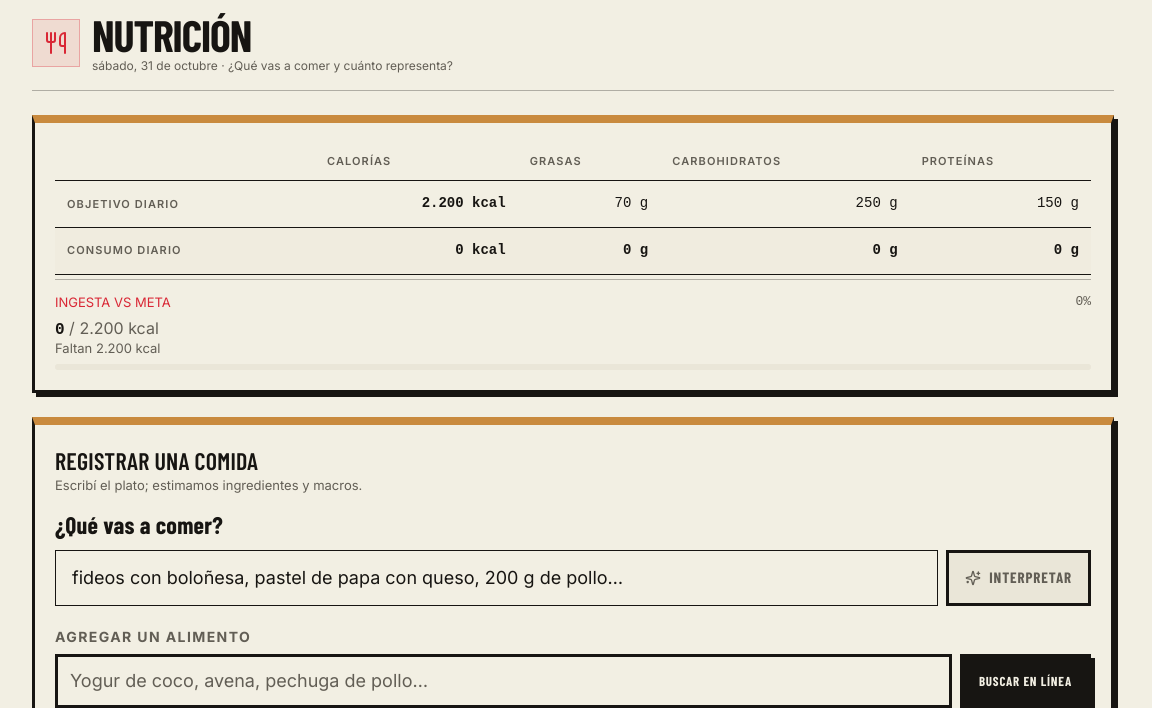
Nutrición — flujo de comidas sin proveedores externos › eliminar una comida la saca de la lista, del círculo y de Dexie
Type "yogur con banana" into the field labelled "Qué vas a comer".
click(497, 578); type("yogur con banana")  # box [55, 550, 938, 606]
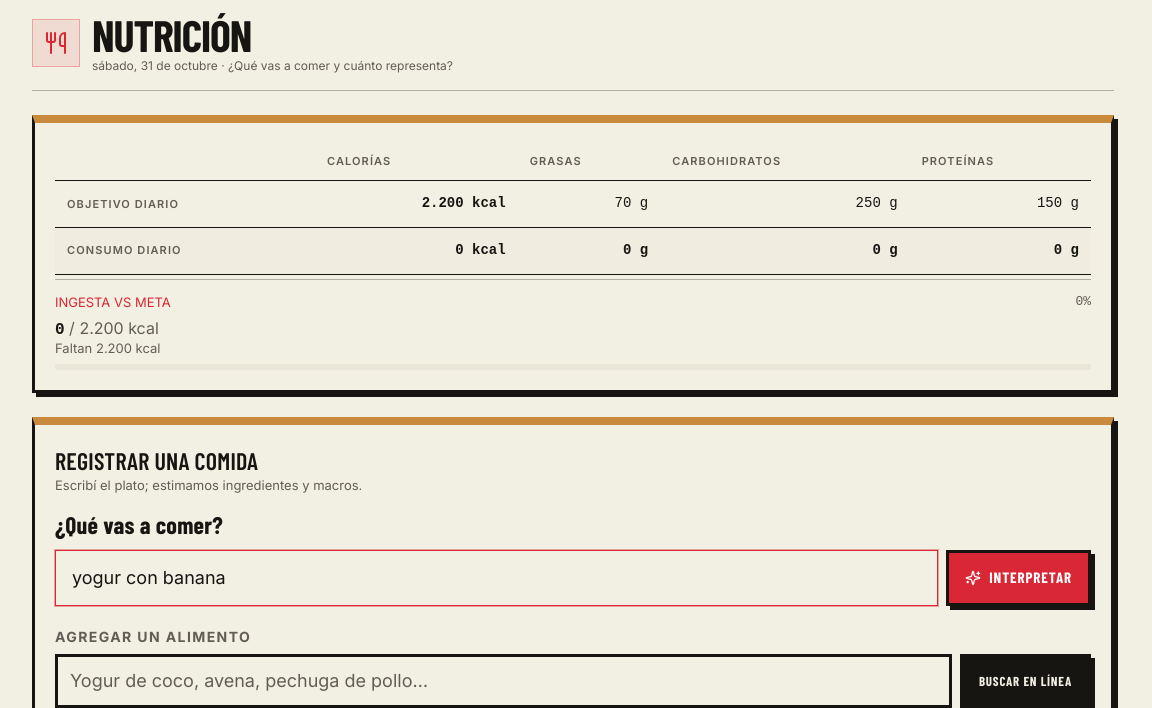
Click the button "Interpretar".
click(1019, 578)  # box [946, 550, 1091, 606]
(page scrolled)
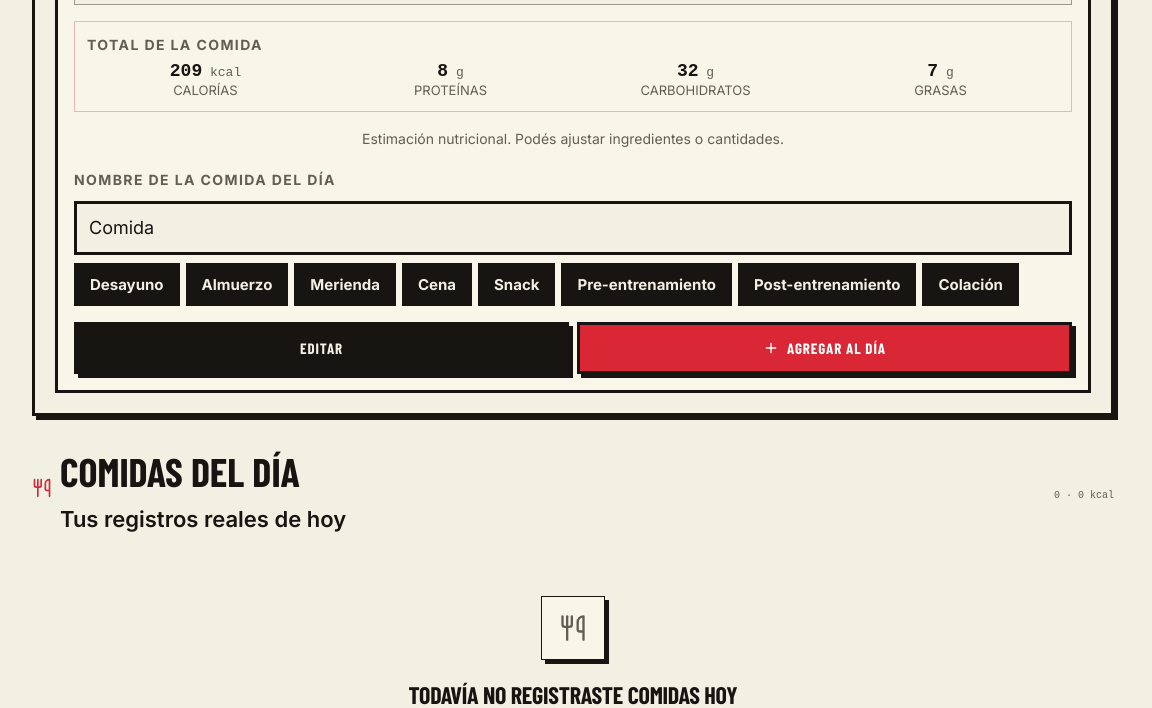
Click the button with test id "dish-save".
click(824, 348)  # box [577, 322, 1072, 374]
(page scrolled)
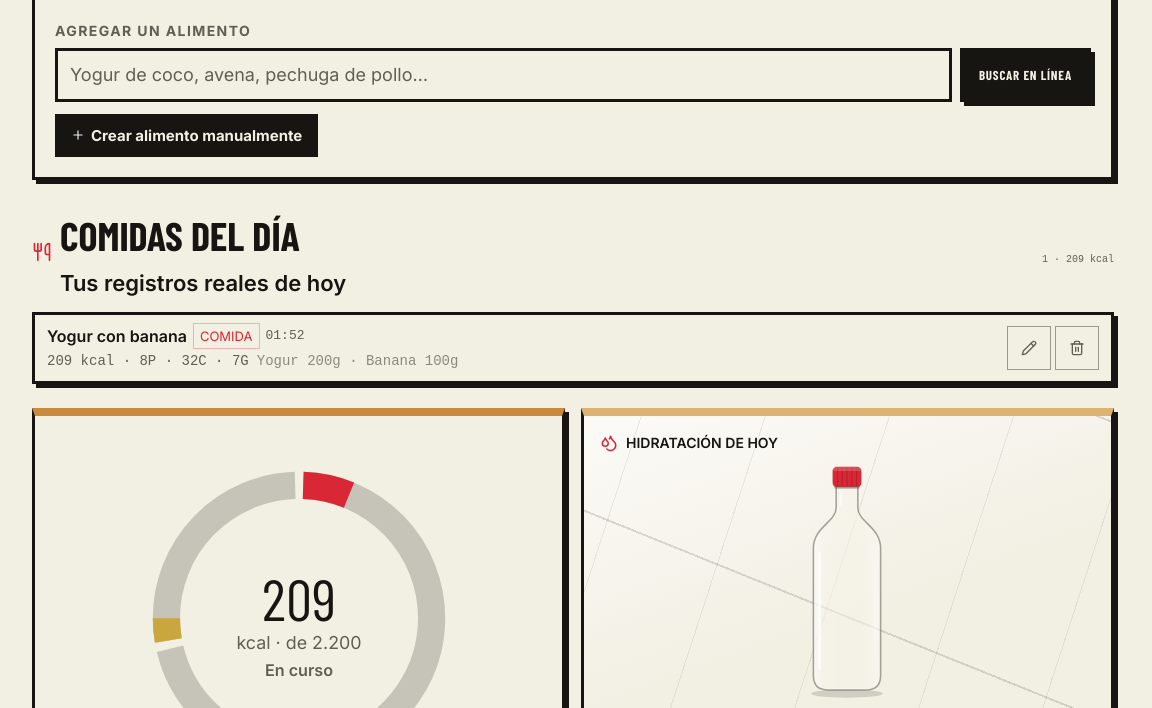
Click the button named "Eliminar ".
click(1077, 348)  # box [1055, 326, 1099, 370]
(page scrolled)
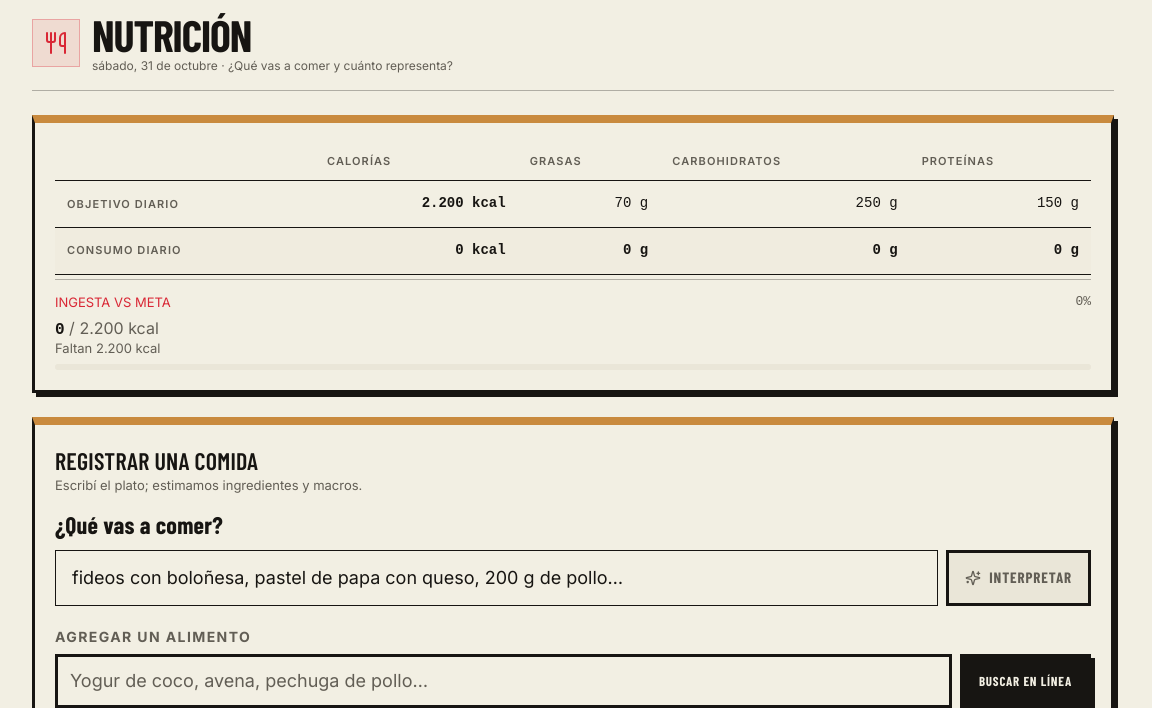
expect the 1st text "0 g" is shown: met, box [623, 242, 648, 258]
